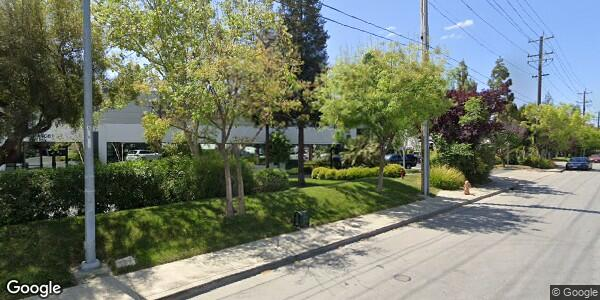Steel_Pole: (79, 1, 100, 270)
Wood_Pole: (418, 1, 433, 197), (526, 33, 555, 105), (576, 88, 592, 113)
